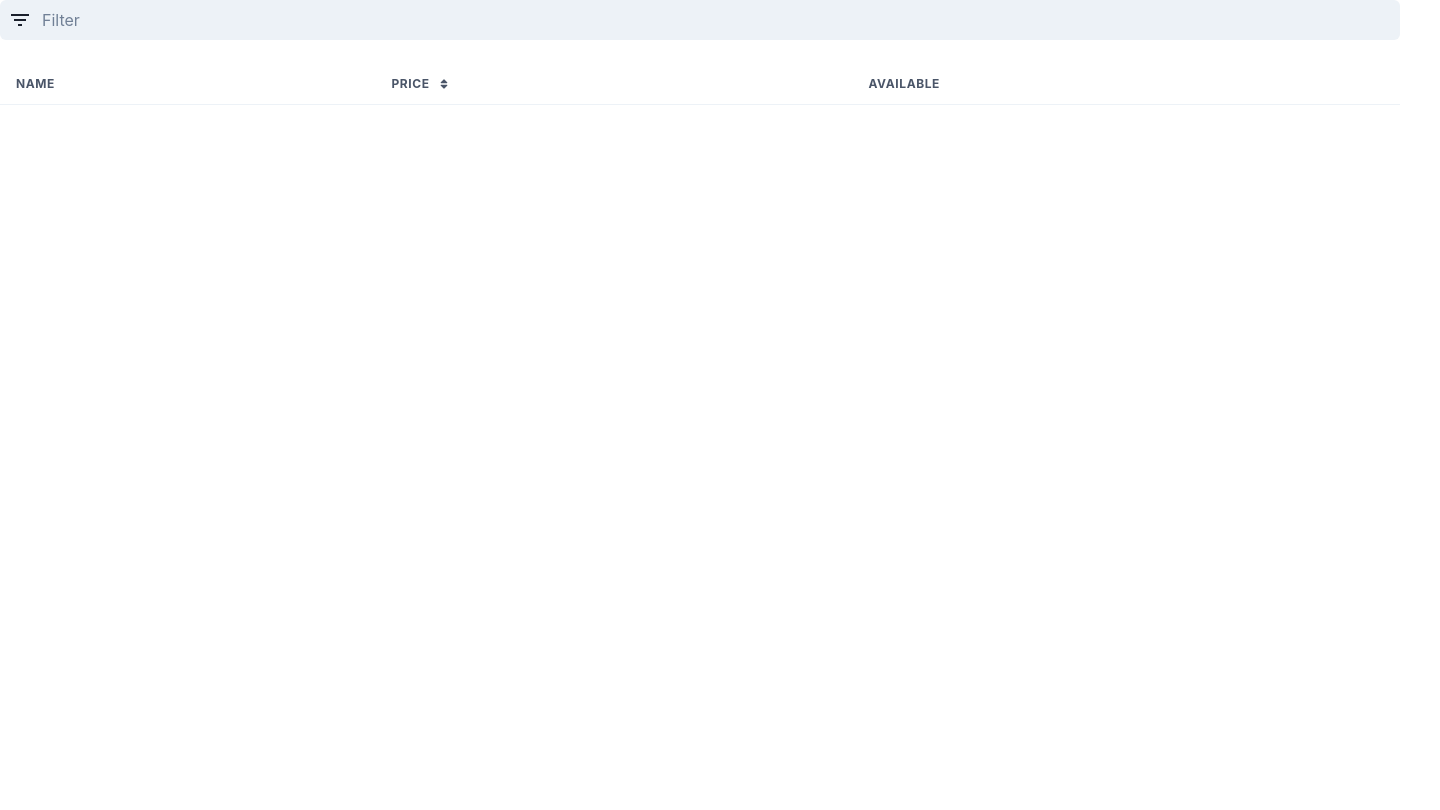
Test: Table › filtering input › popover › should open filter modal when an option is clicked
The image size is (1440, 810).
Click the field with placeholder "Filter".
click(700, 20)  # box [0,0,1400,40]
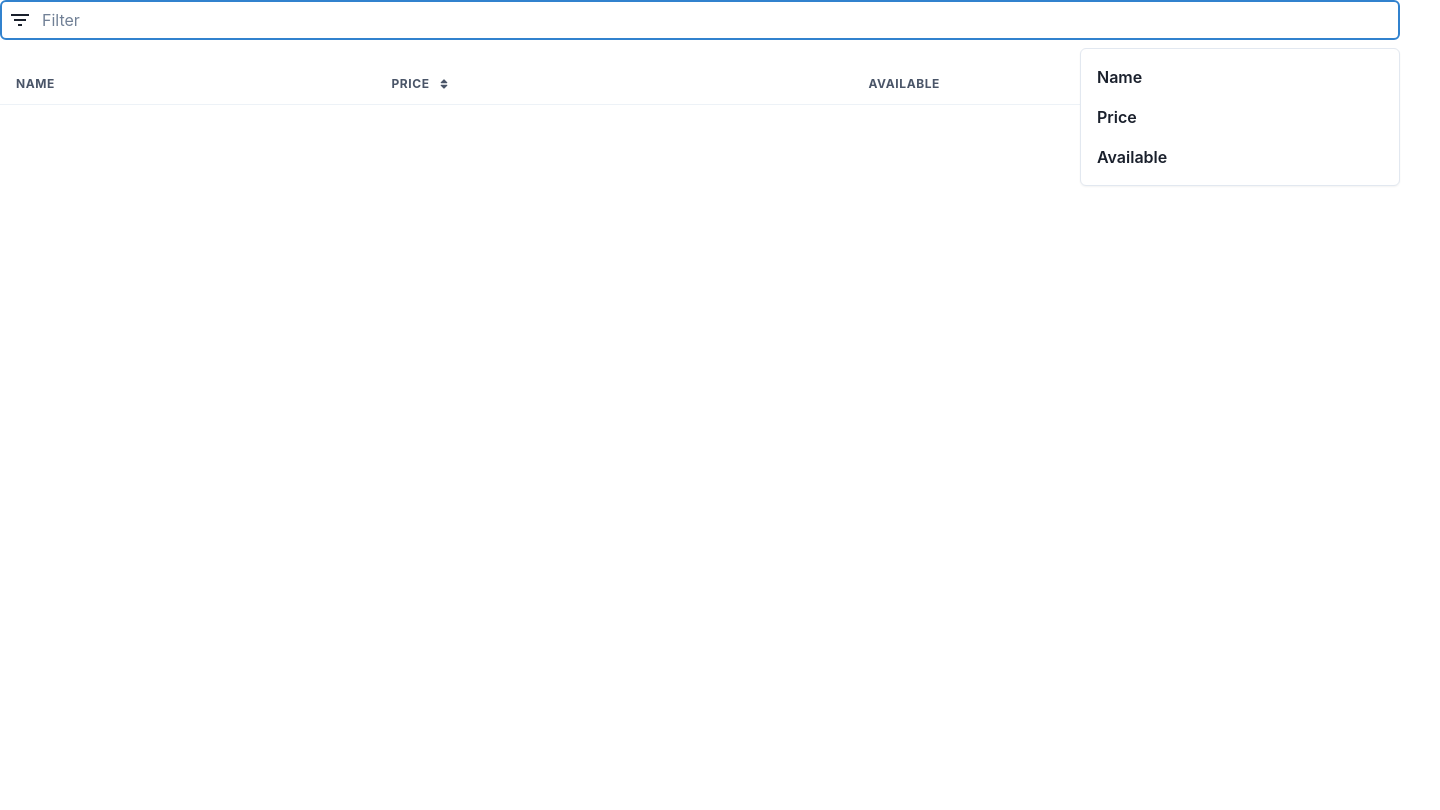
Click the list item "Price".
click(1117, 117)  # box [1097,107,1137,127]
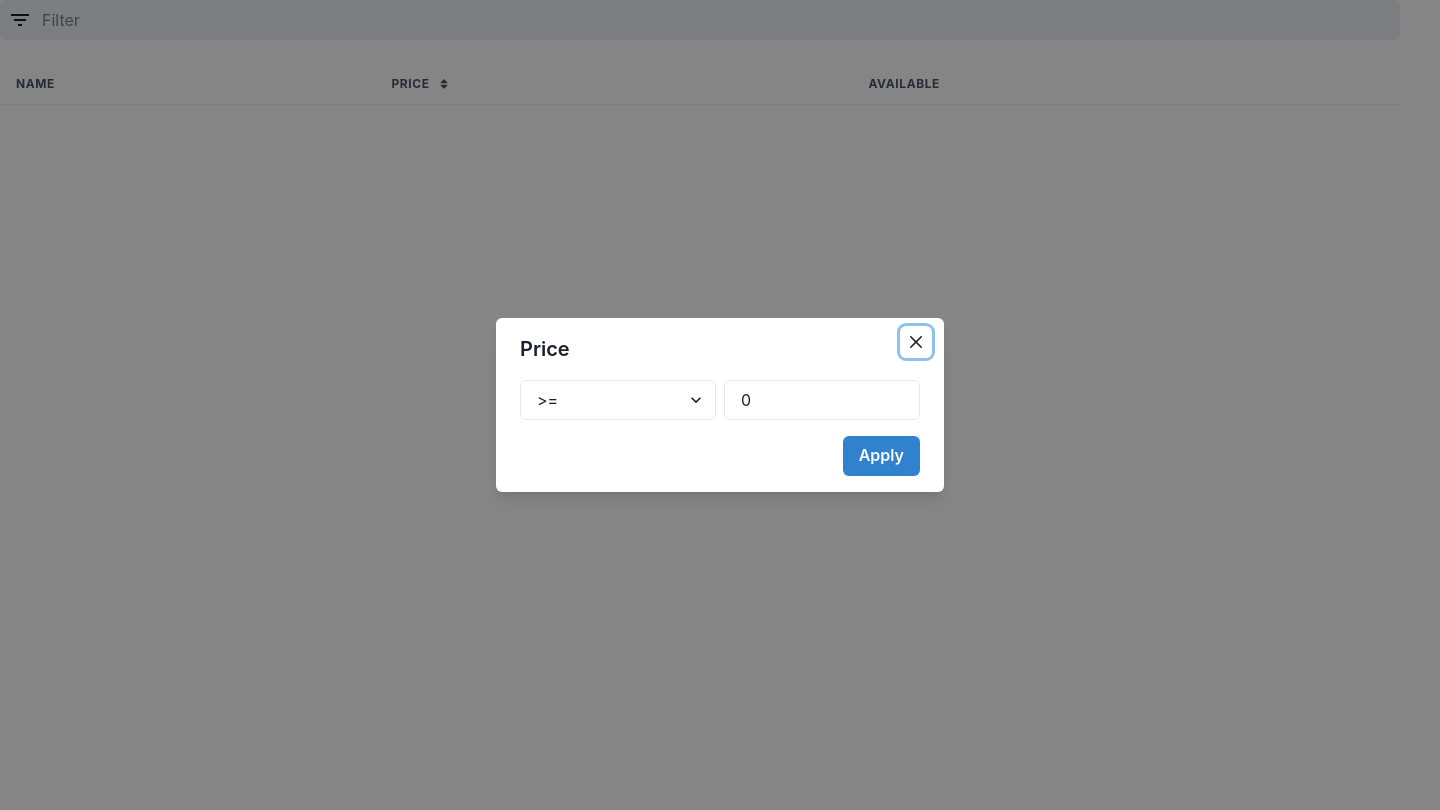
Expected: the dialog "Price" is shown, [496,318,944,492]
